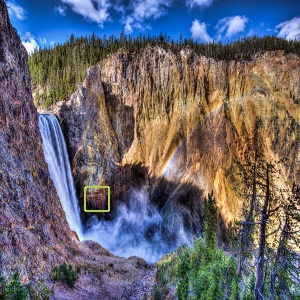square: (83, 185, 112, 213)
